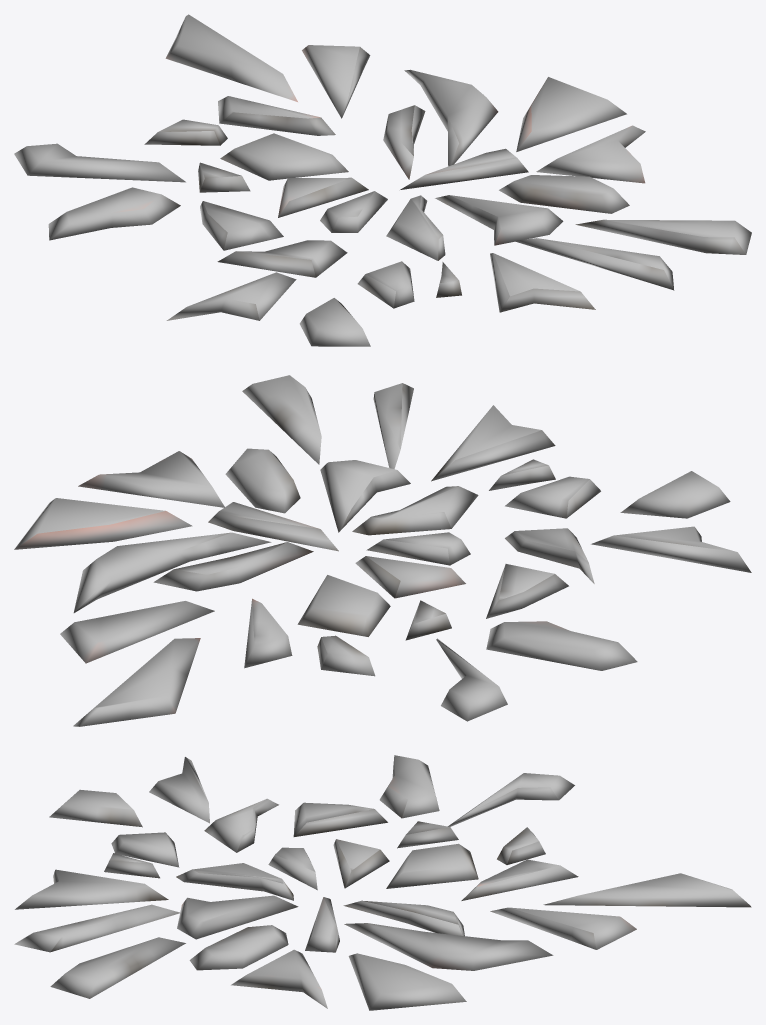
File: Asset_02_glassshards_v001.obj
3 renders of one model, top to bottom at view 1: azimuth 30°, elevation 25°; view 2: azimuth 150°, elevation 25°; view 3: azimuth 270°, elevation 25°, orthographic. The views are drawn at different scales.
Visible parts, largest first — view 1: glassshards_low; view 2: glassshards_low; view 3: glassshards_low.
Boxes of the visible parts, x1,y1,x2,y2 form: glassshards_low: [14, 14, 751, 346]; glassshards_low: [14, 375, 751, 726]; glassshards_low: [14, 755, 751, 1010].
Size of the model in its own units: 4.15 by 0.1076 by 5.12.
